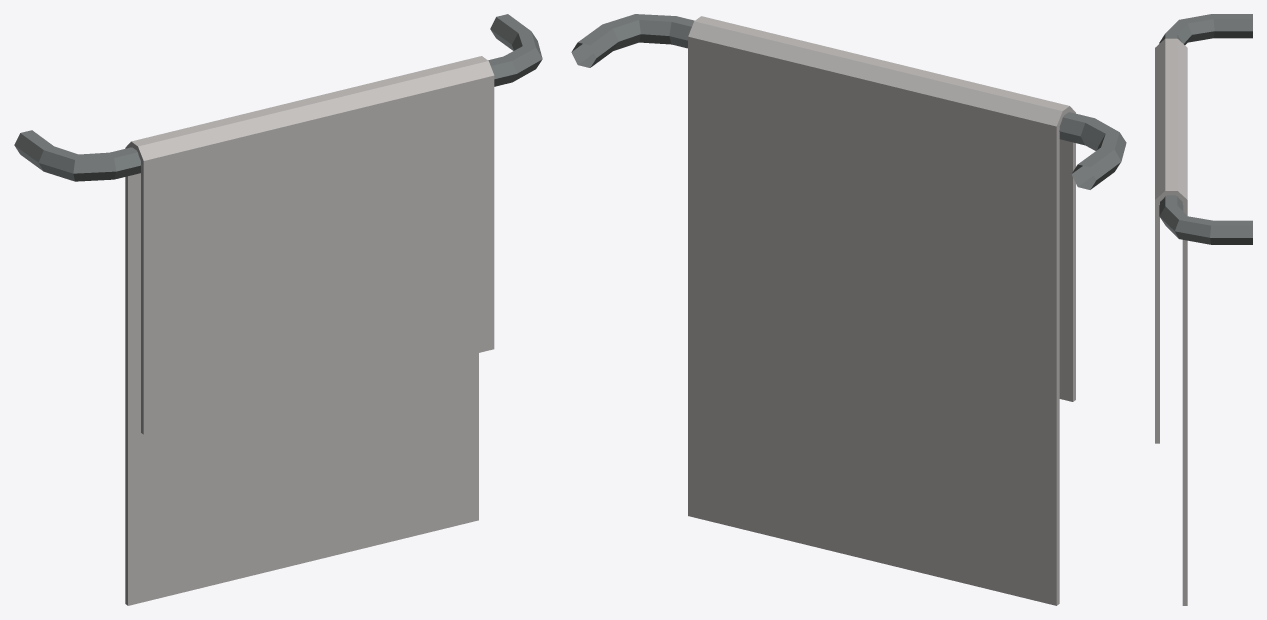
Rendered from SM_Props_Interior_House_Bathroom__Towel.fbx.
The picture shows the model from 3 angles, left to right: view 1: azimuth 30°, elevation 25°; view 2: azimuth 150°, elevation 25°; view 3: azimuth 270°, elevation 25°; orthographic projection. The views are drawn at different scales.
Parts seen in each view (by area): view 1: SM_Props_Interior_House_Bathroom__Towel; view 2: SM_Props_Interior_House_Bathroom__Towel; view 3: SM_Props_Interior_House_Bathroom__Towel.
Boxes of the visible parts, x1,y1,x2,y2 form: SM_Props_Interior_House_Bathroom__Towel: (14,14,542,605); SM_Props_Interior_House_Bathroom__Towel: (571,14,1126,605); SM_Props_Interior_House_Bathroom__Towel: (1155,14,1252,605).
Bounding box in the file's own units: 63 × 56.22 × 12.
